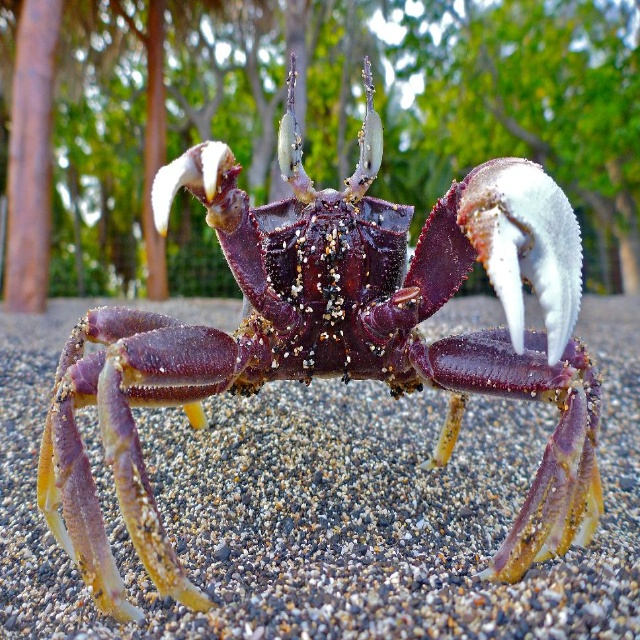Crab: (34, 52, 606, 625)
